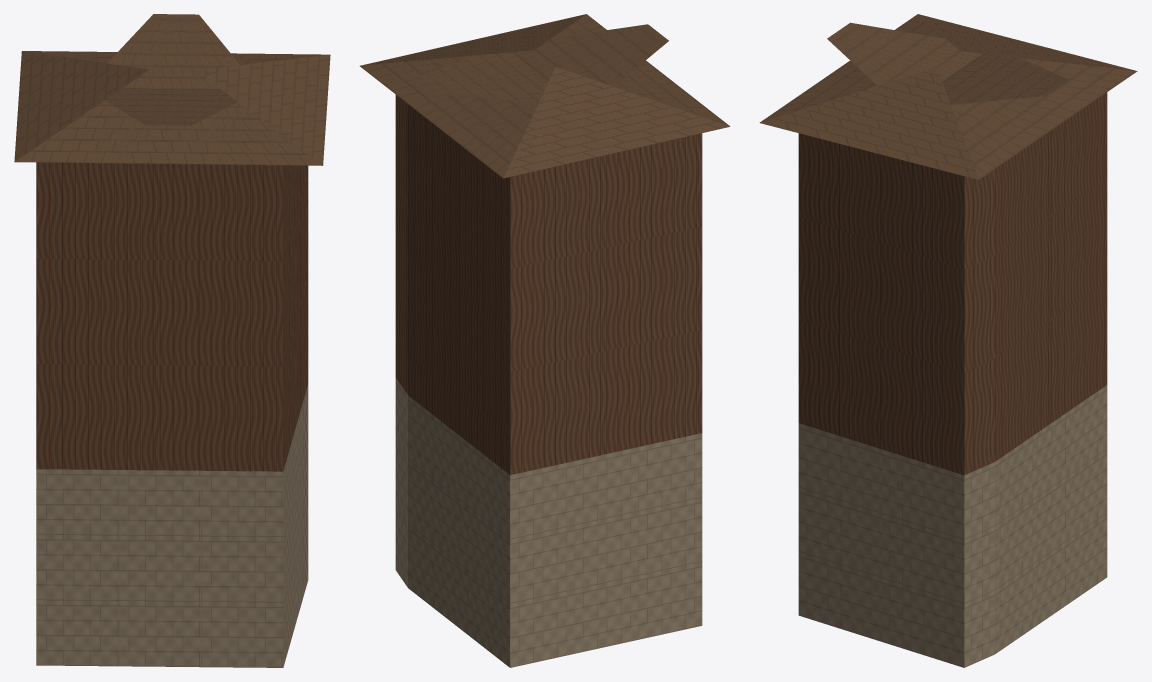
The model's file is bld_c42_31_271.gltf.
The picture shows the model from 3 angles, left to right: view 1: azimuth 30°, elevation 25°; view 2: azimuth 150°, elevation 25°; view 3: azimuth 270°, elevation 25°; orthographic projection. The views are drawn at different scales.
Visible parts, largest first — view 1: bld_c42_31_271; view 2: bld_c42_31_271; view 3: bld_c42_31_271.
Boxes of the visible parts, x1,y1,x2,y2 form: bld_c42_31_271: [14, 14, 330, 667]; bld_c42_31_271: [360, 14, 729, 667]; bld_c42_31_271: [759, 14, 1137, 667].
Size of the model in its own units: 9.44 by 14.3 by 9.09.
3 materials, 3 textured.
